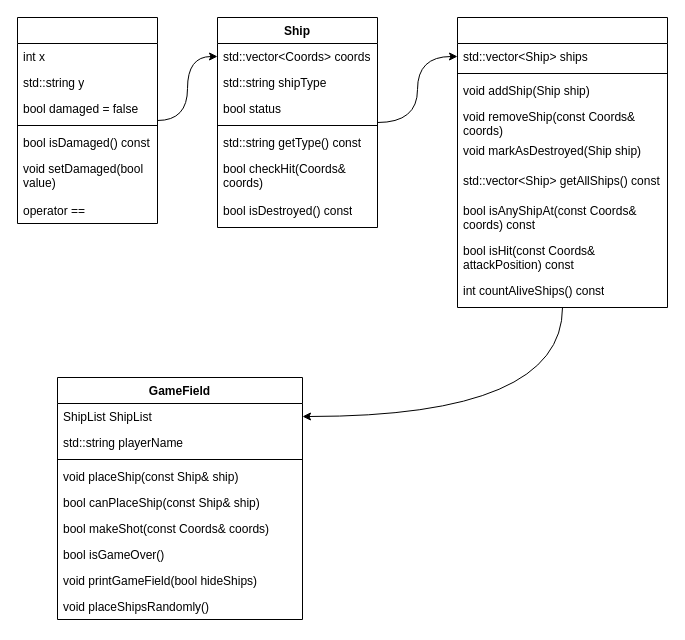
Some shapes in this 685 by 640 pixel diagram are drawn without their labels. The box of each missing label's shape, as (x1, y1, x2, y2) in pixels:
<<struct>> Coords: (16, 16, 158, 224)
ShipList: (456, 16, 668, 308)
